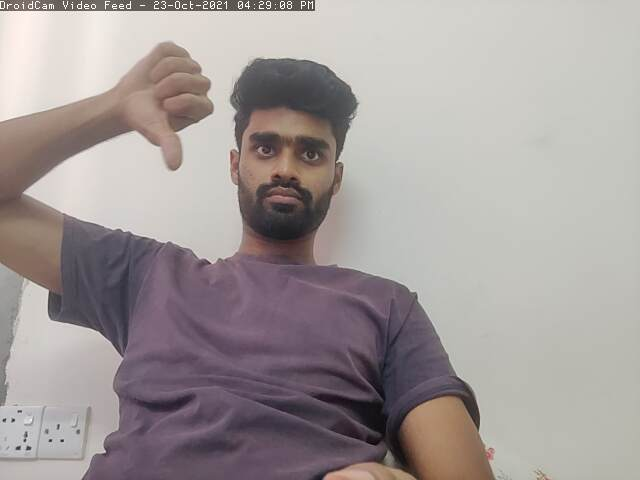ThumbsDown: (123, 41, 216, 175)
